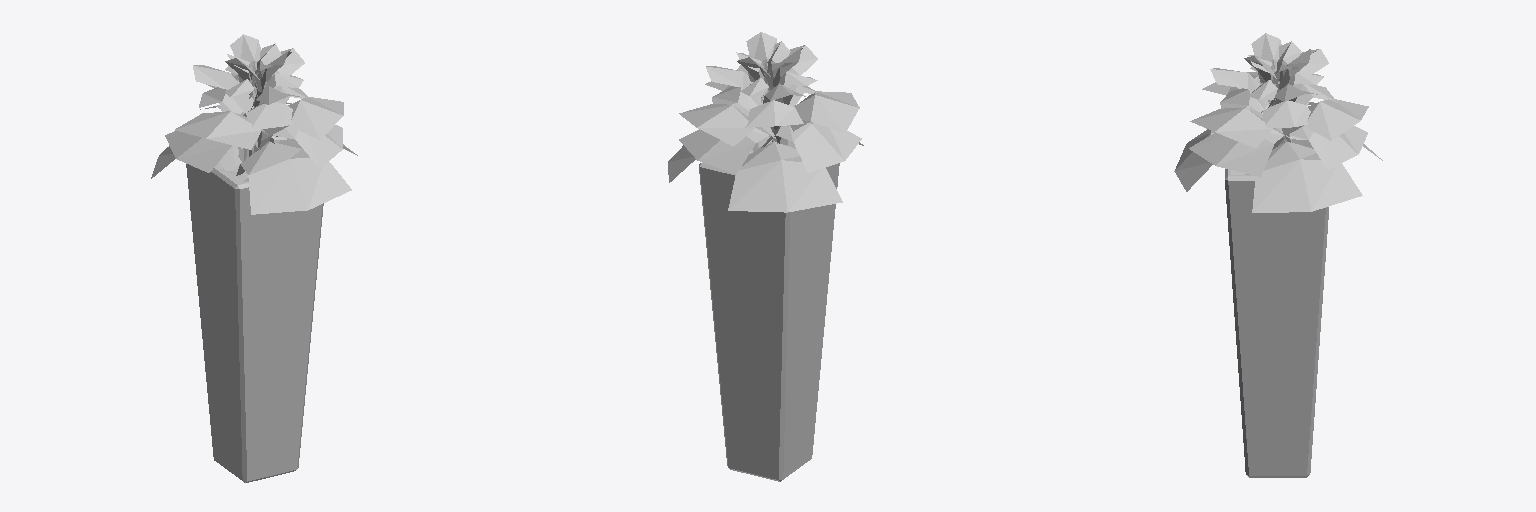
The model's file is square_shrub.obj.
The picture shows the model from 3 angles: view 1: azimuth 30°, elevation 25°; view 2: azimuth 150°, elevation 25°; view 3: azimuth 270°, elevation 25°; orthographic projection.
Parts seen in each view (by area): view 1: Square.005; view 2: Square.005; view 3: Square.005.
Boxes of the visible parts, <box> form: Square.005: <box>151,34,357,482</box>; Square.005: <box>668,32,863,481</box>; Square.005: <box>1174,33,1382,477</box>.
Size of the model in its own units: 0.6081 by 1.35 by 0.6152.